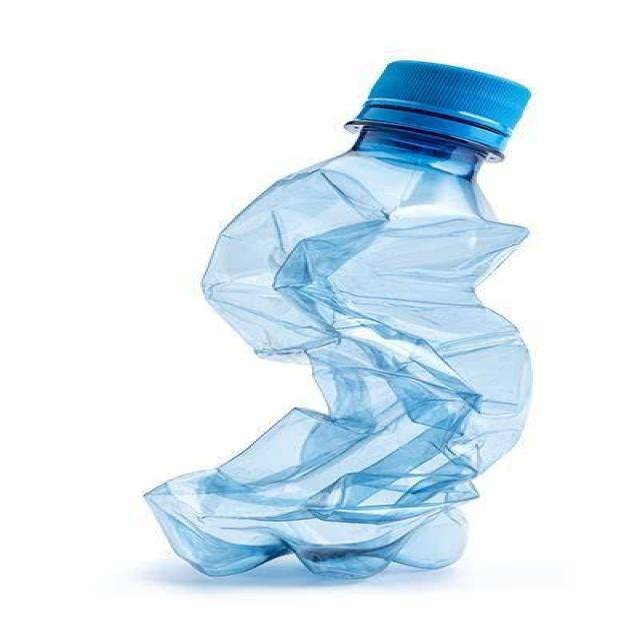plastic bottle: (142, 127, 536, 580)
plastic bottle cap: (350, 59, 536, 154)
